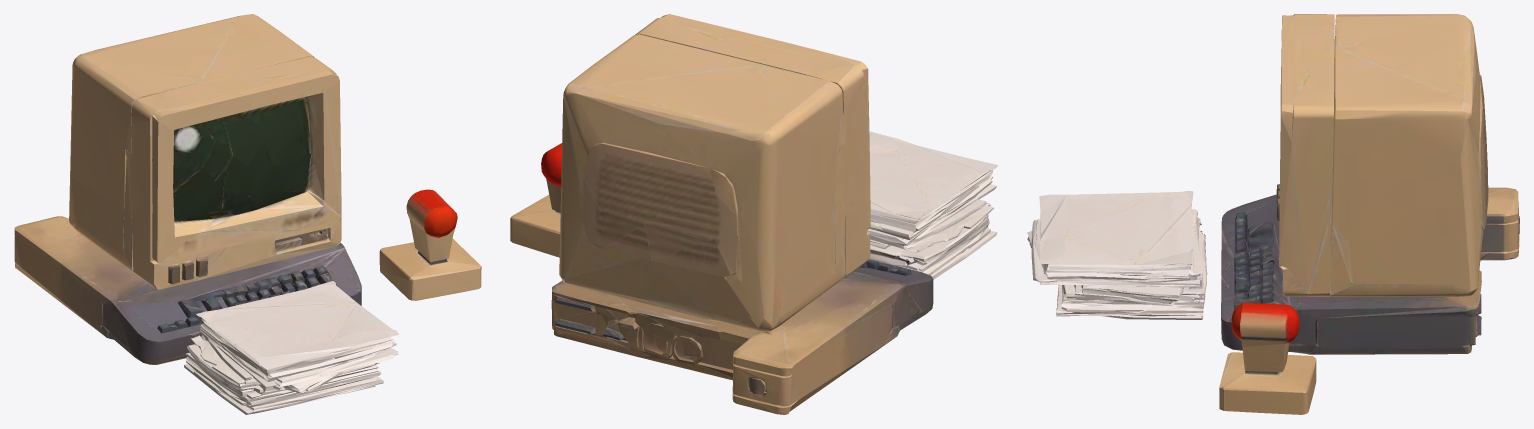
File: desk.glb
The picture shows the model from 3 angles, left to right: view 1: azimuth 30°, elevation 25°; view 2: azimuth 150°, elevation 25°; view 3: azimuth 270°, elevation 25°; orthographic projection. The views are drawn at different scales.
Bounding box in the file's own units: 1.66 × 1.03 × 1.9.
1 material, 1 textured.
